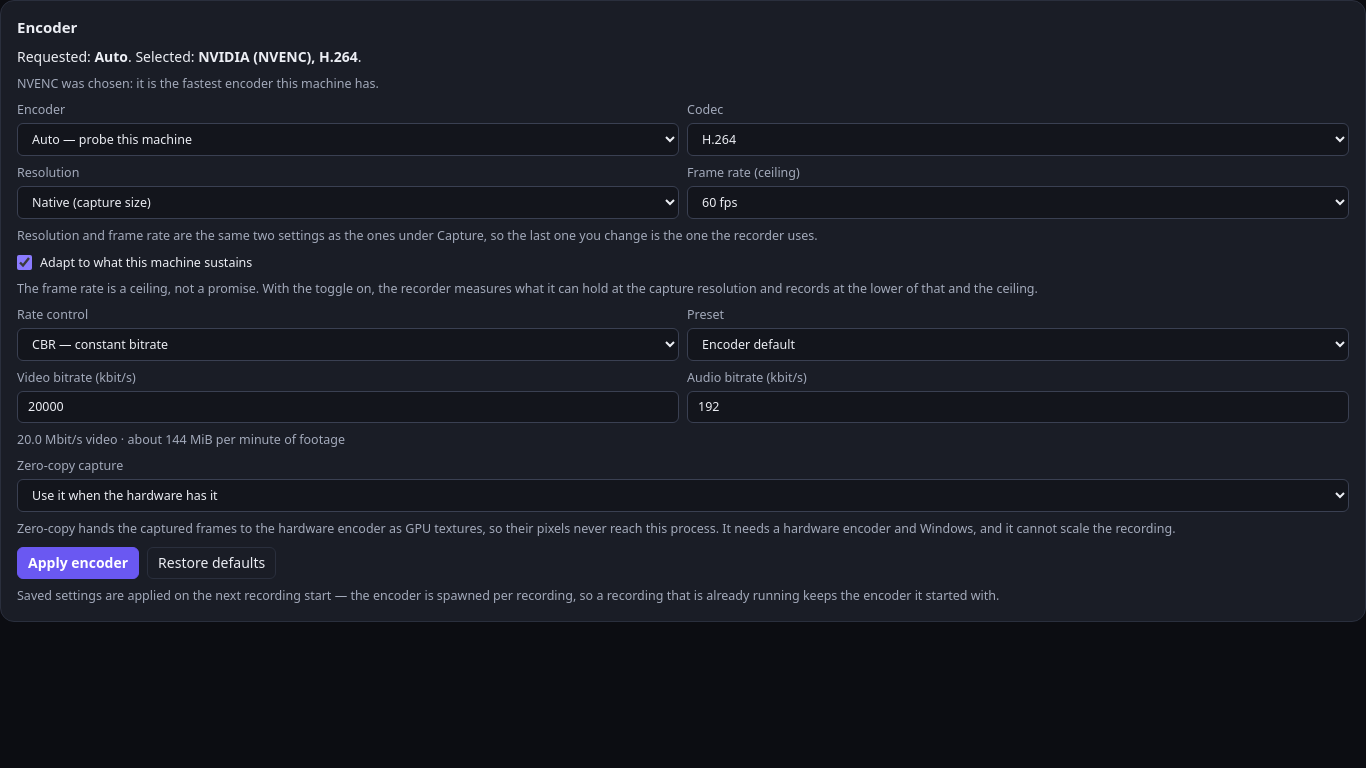
Test: the encoder section › shows the backend’s refusal instead of swallowing it
This screenshot has width=1366, height=768.
Click the button "Apply encoder" at (78, 563), box [17,546,139,579]
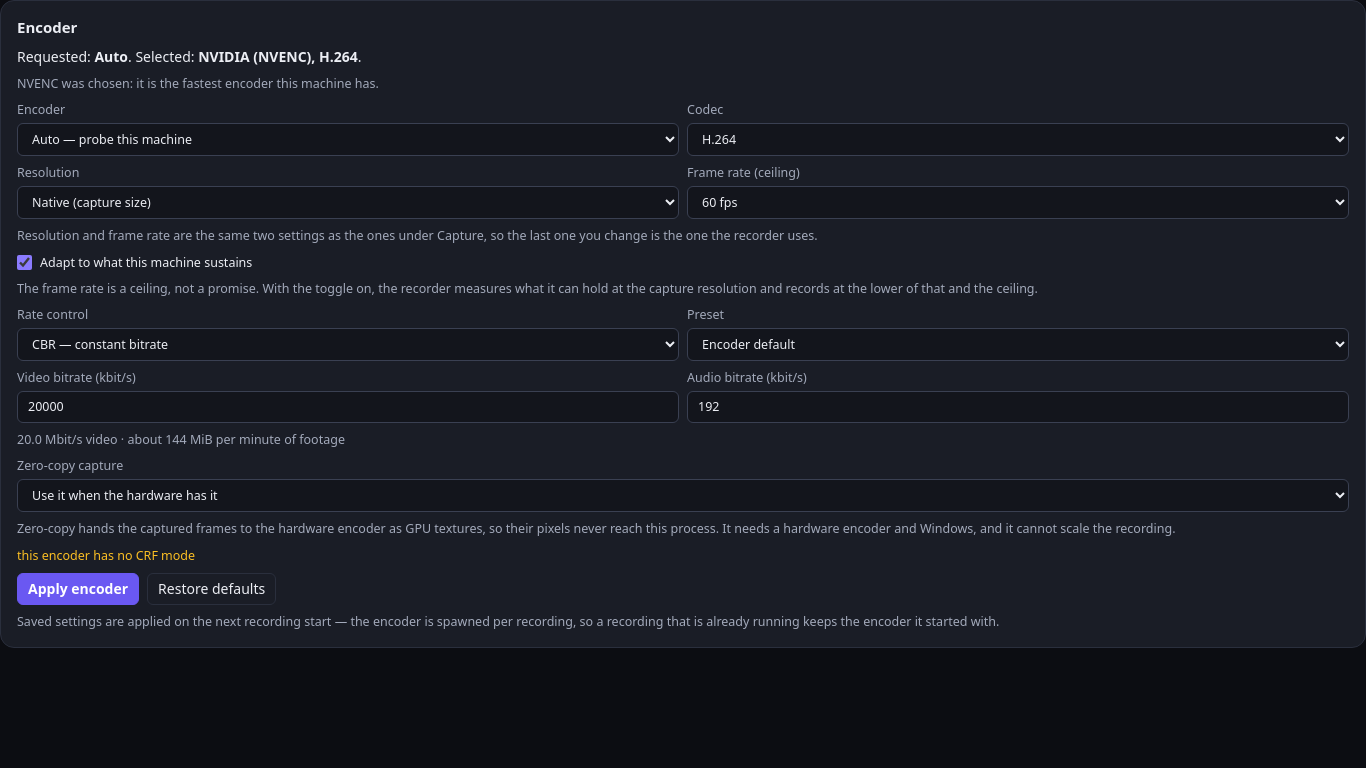
expect the text "this encoder has no CRF mode" is shown: met, box [17,546,195,564]
expect the message "this encoder has no CRF mode" is shown: met, box [17,546,195,564]
